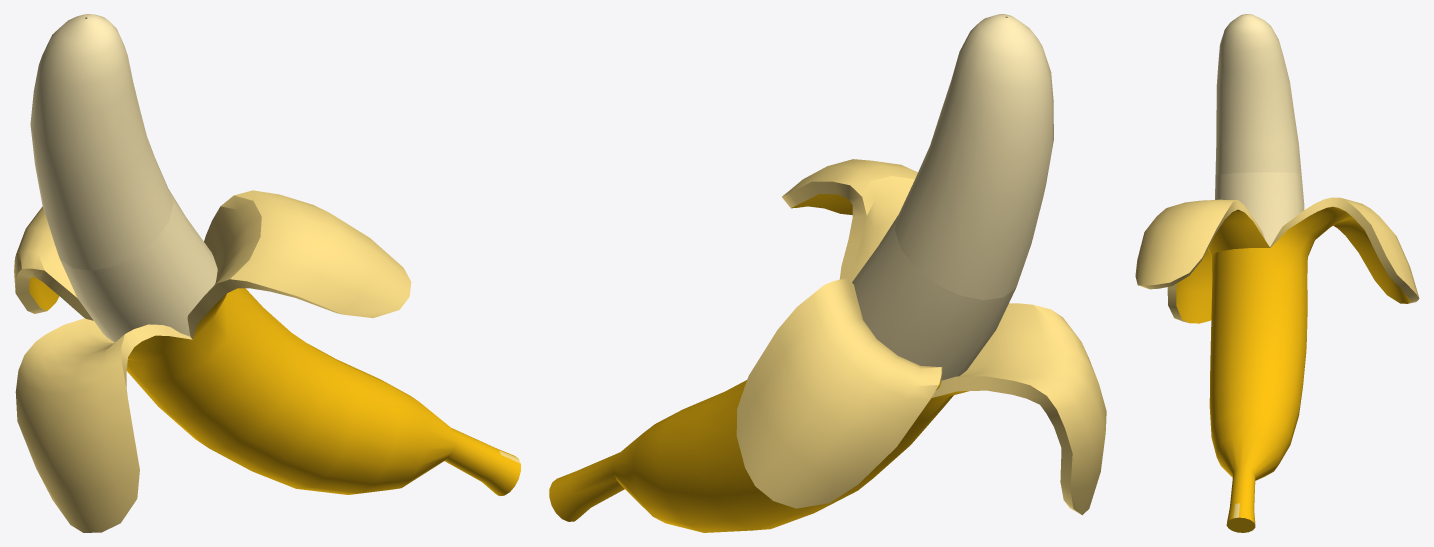
File: banana.gltf
3 renders of one model, left to right at view 1: azimuth 30°, elevation 25°; view 2: azimuth 150°, elevation 25°; view 3: azimuth 270°, elevation 25°, orthographic. The views are drawn at different scales.
Parts seen in each view (by area): view 1: Circle.028; view 2: Circle.028; view 3: Circle.028.
Part boxes in pixels (x1=…): Circle.028: x1=14, y1=14, x2=520, y2=532; Circle.028: x1=549, y1=14, x2=1106, y2=532; Circle.028: x1=1135, y1=14, x2=1419, y2=532.
Bounding box in the file's own units: 2.03 × 2.24 × 1.5.
Materials: 1 (1 with a texture image).
